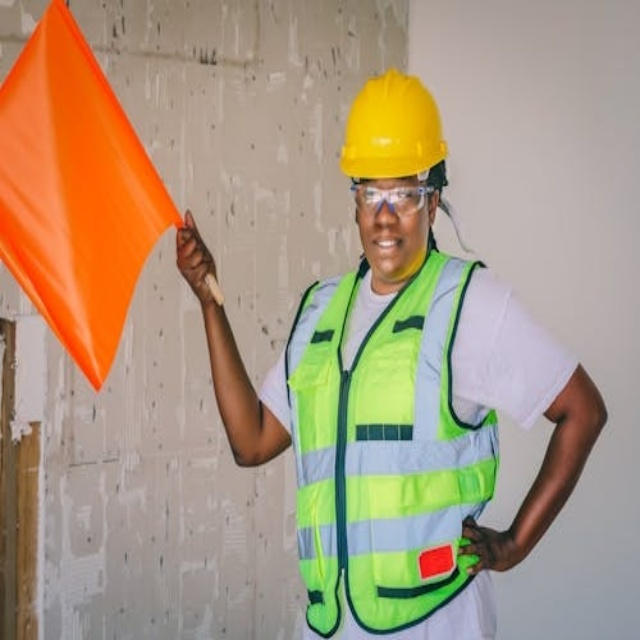Gafas: (352, 183, 433, 215)
Sin_guantes: (166, 203, 228, 314), (460, 509, 525, 584)
Sin_mascara: (366, 230, 406, 265)
